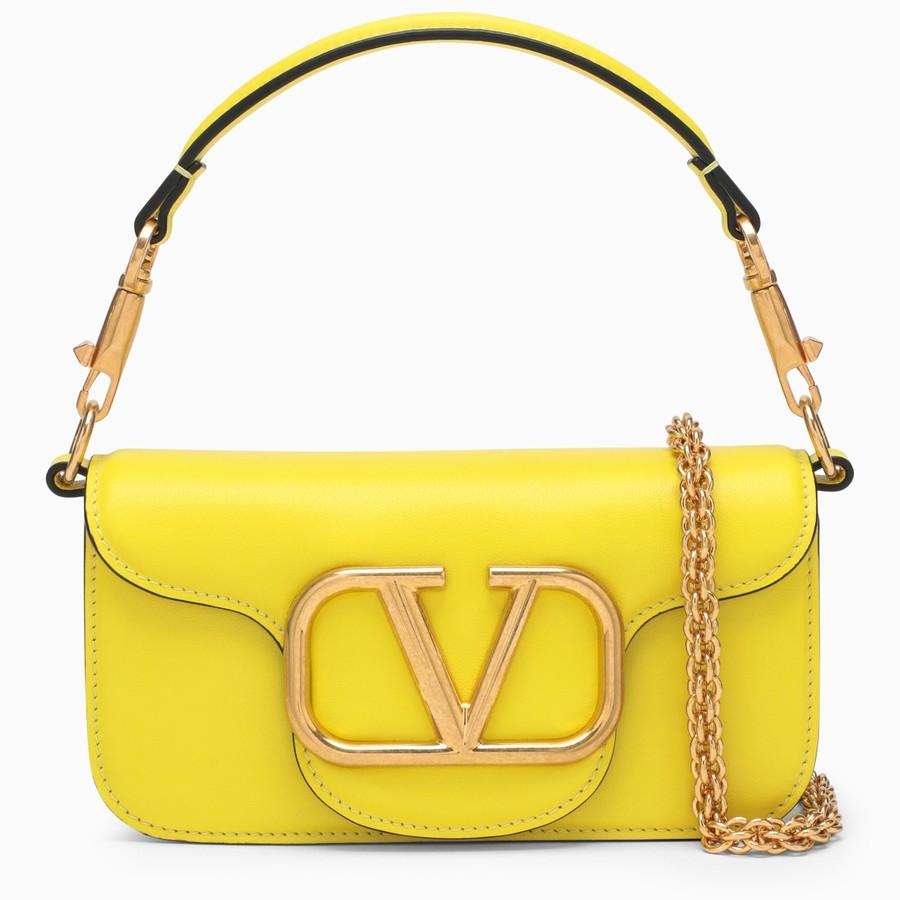VALENTINO: (285, 563, 624, 763)
